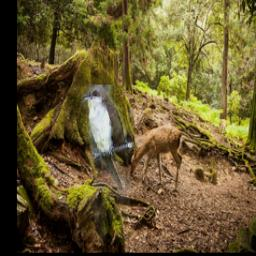Cuckoo: (81, 86, 134, 245)
